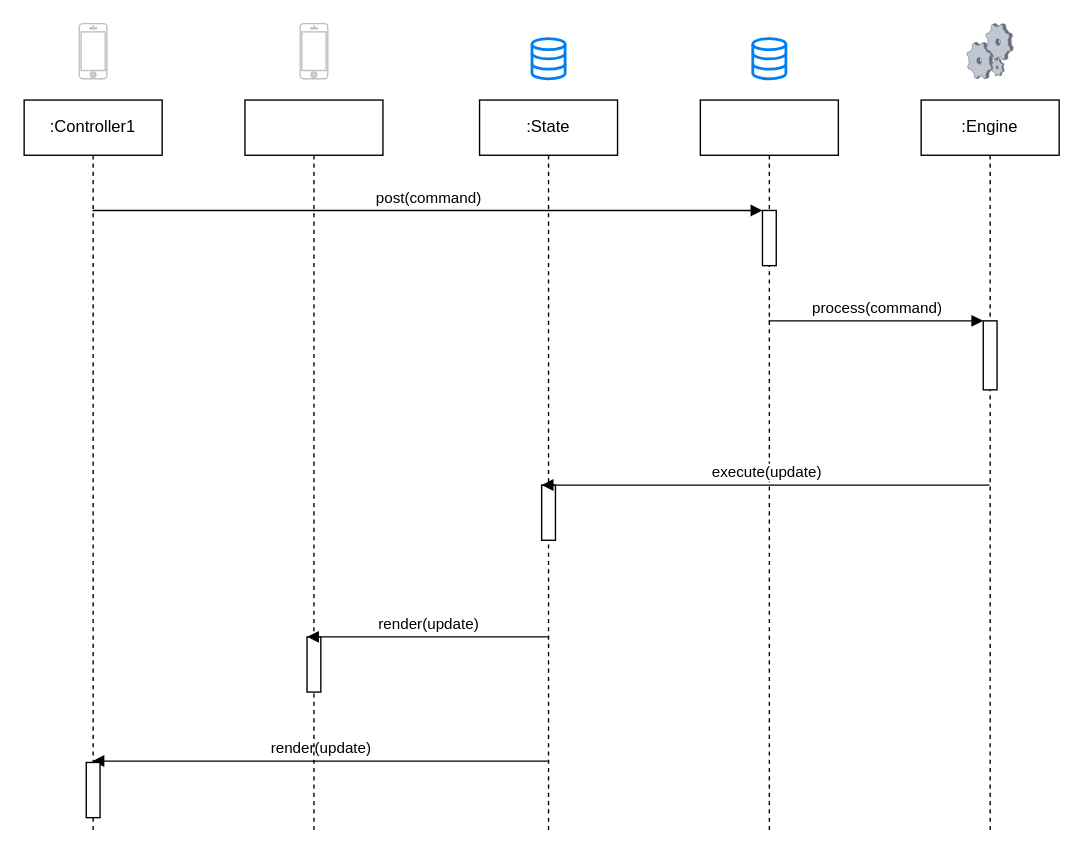
The diagram is 1083 pixels wide and 857 high, and some of its shapes have lost their labels. The box of each missing label's shape, as (x1, y1, x2, y2) in pixels:
:Command: (699, 99, 838, 831)
:Controller2: (244, 99, 383, 831)
